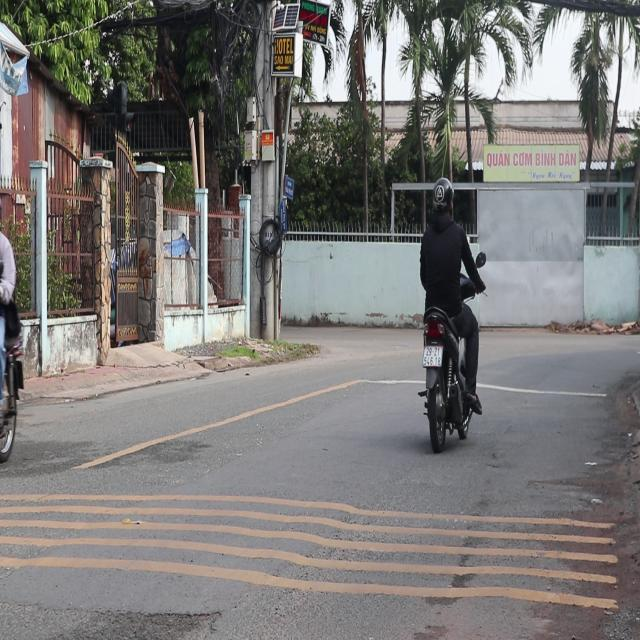helmet: (430, 174, 454, 218)
licenseplate: (413, 173, 484, 449)
nohelmet: (422, 346, 443, 366)
